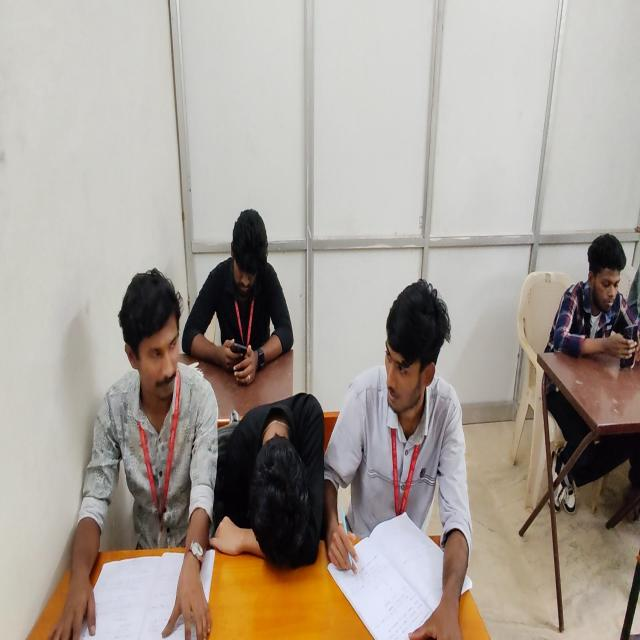sleeping: (210, 392, 323, 574)
turning: (48, 267, 221, 639), (339, 275, 475, 640)
using_mobile: (542, 229, 640, 523), (181, 208, 296, 384)
